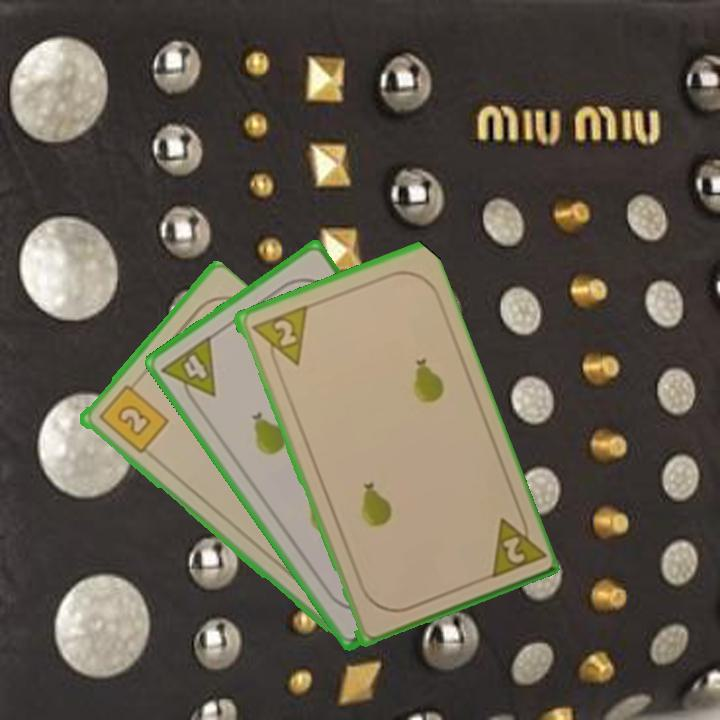2b: (94, 376, 171, 457)
2p: (483, 507, 546, 582), (246, 302, 310, 374)
4p: (157, 332, 219, 411)
